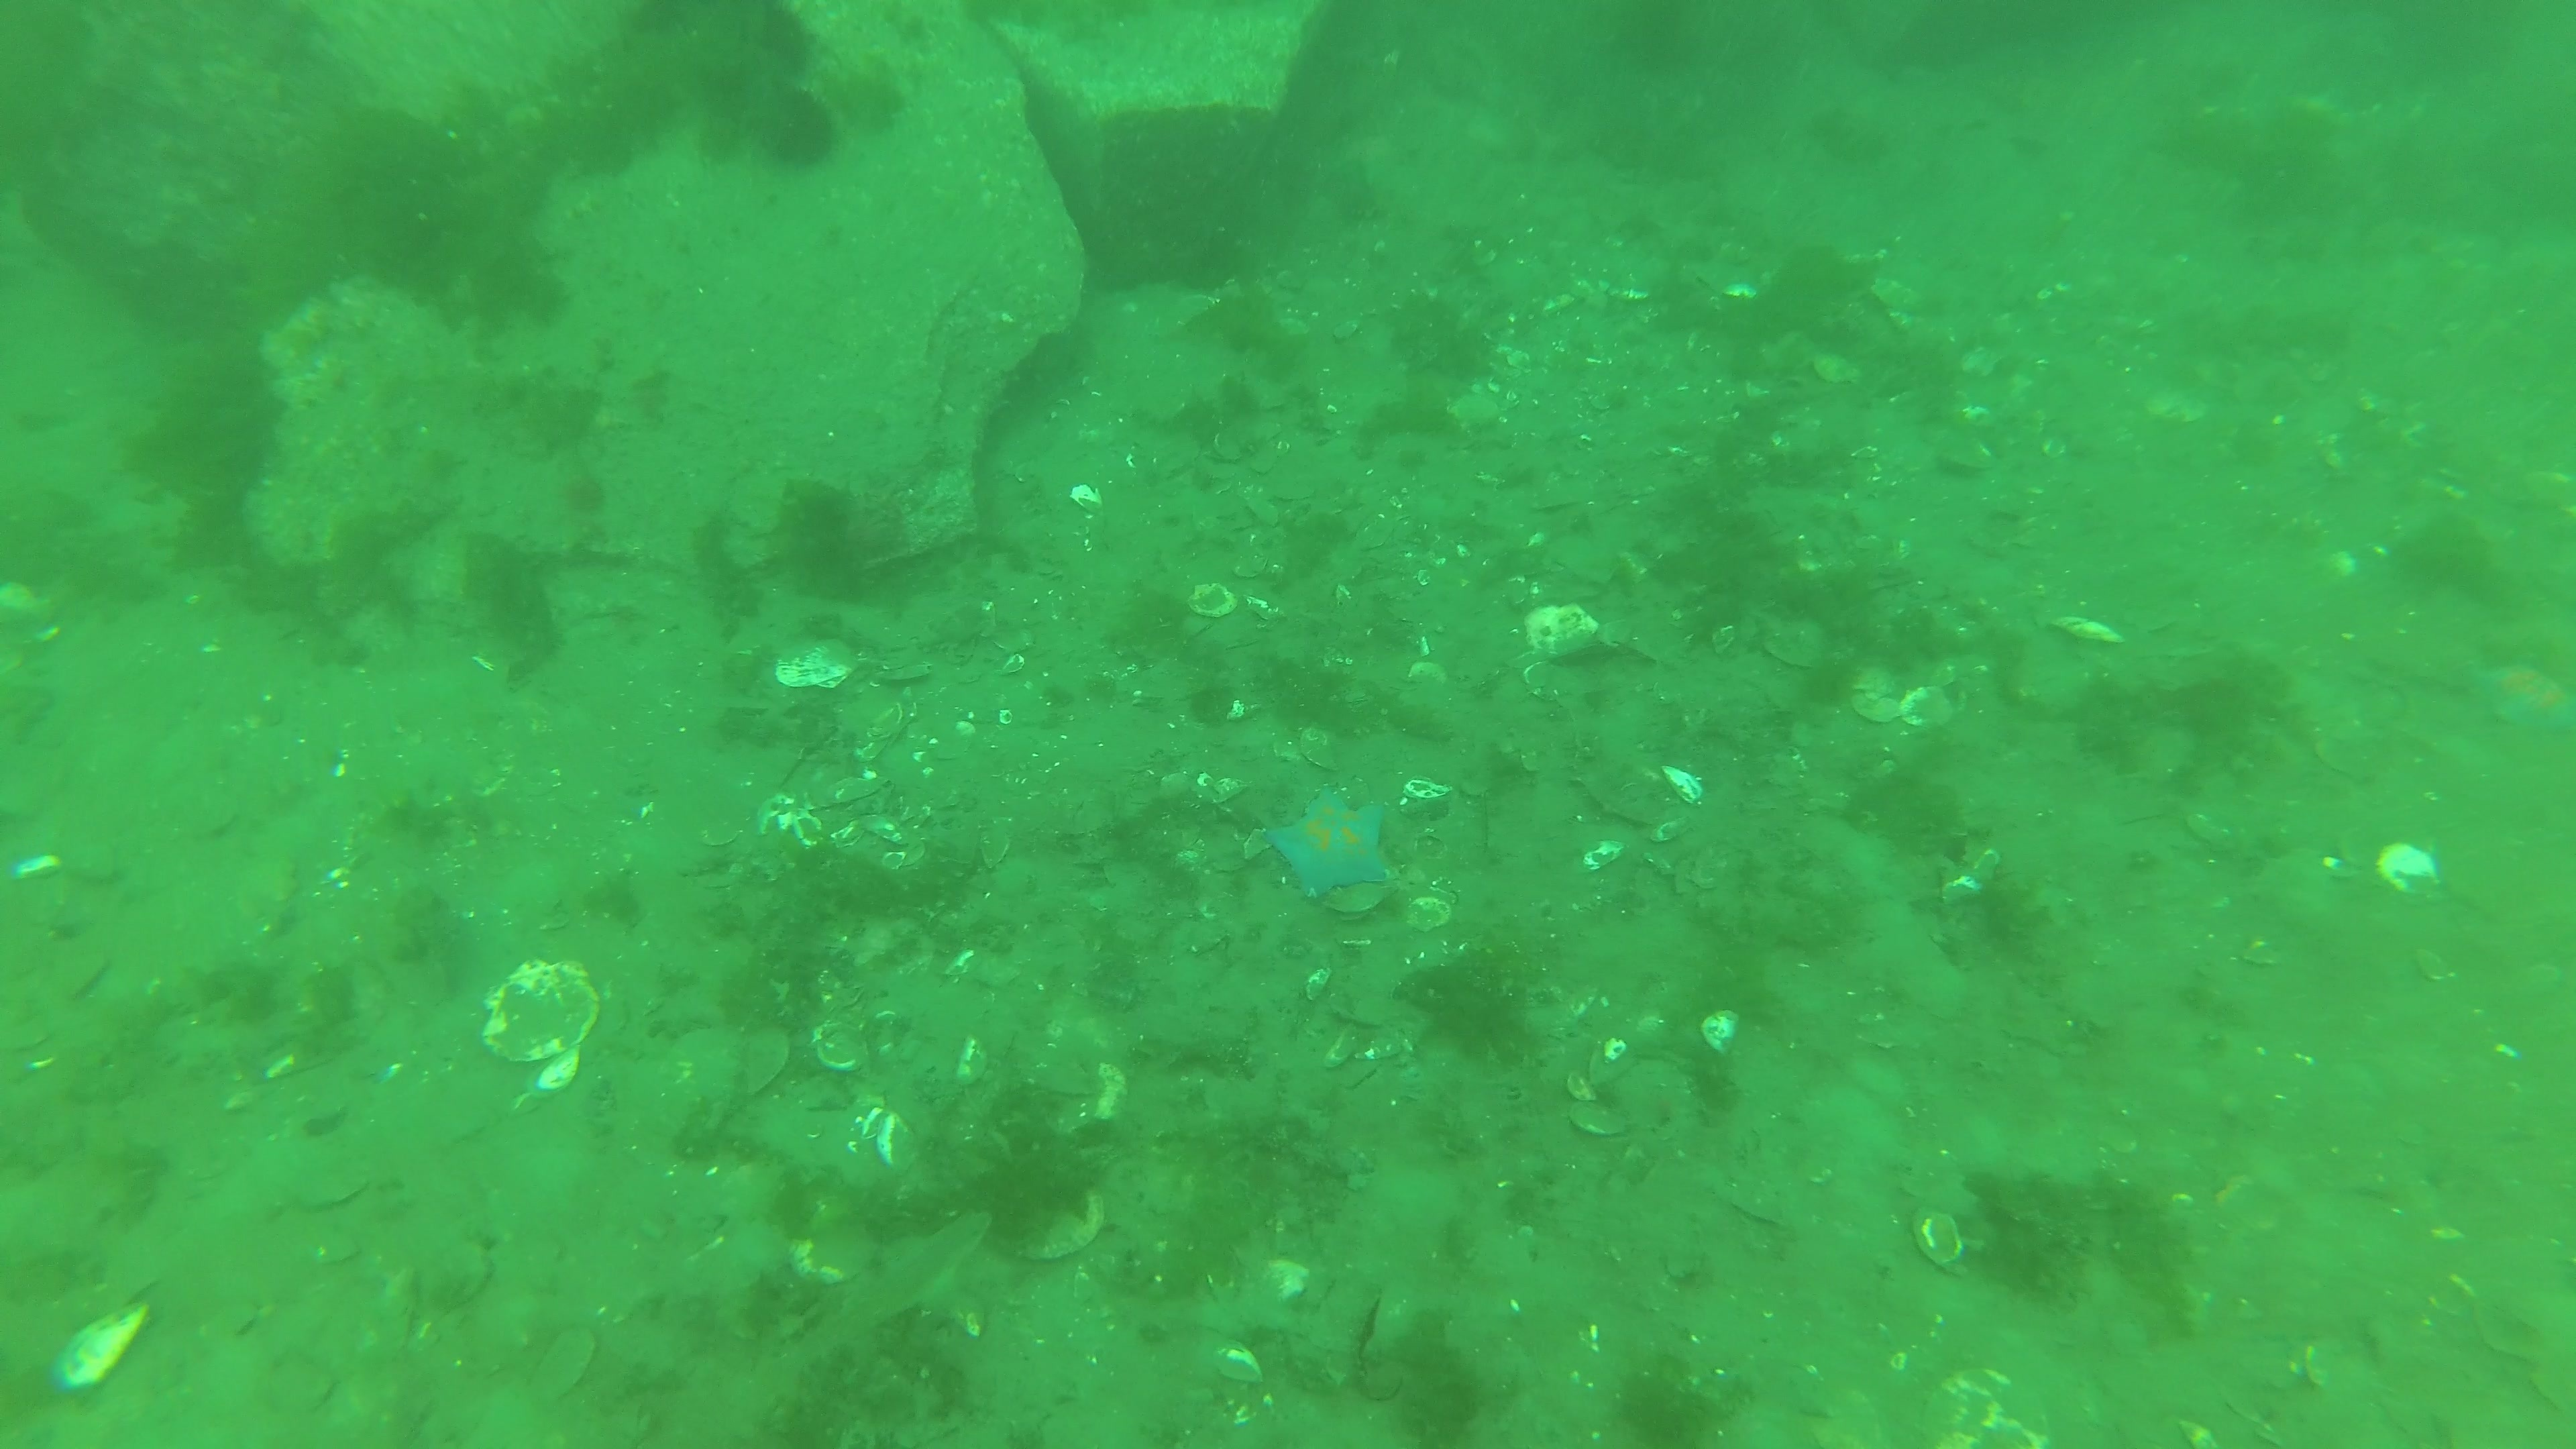starfish: (1251, 789, 1399, 901), (2459, 651, 2576, 741)
